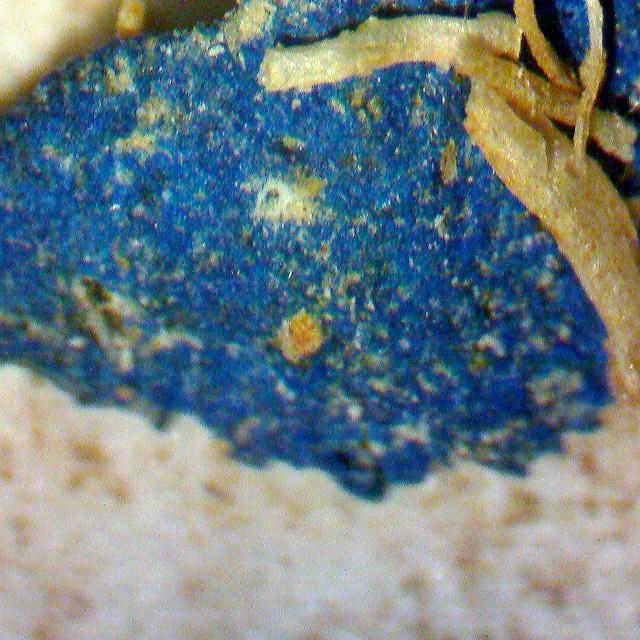microplastic: (1, 8, 615, 499)
